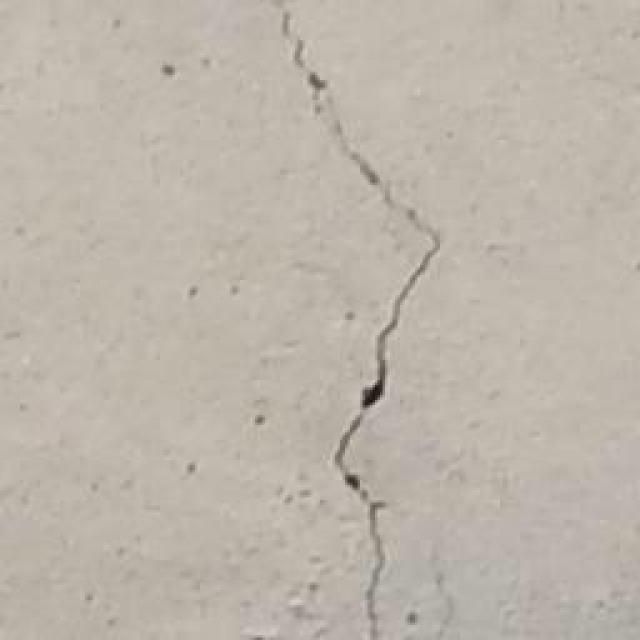concrete-crack: (280, 3, 441, 637)
